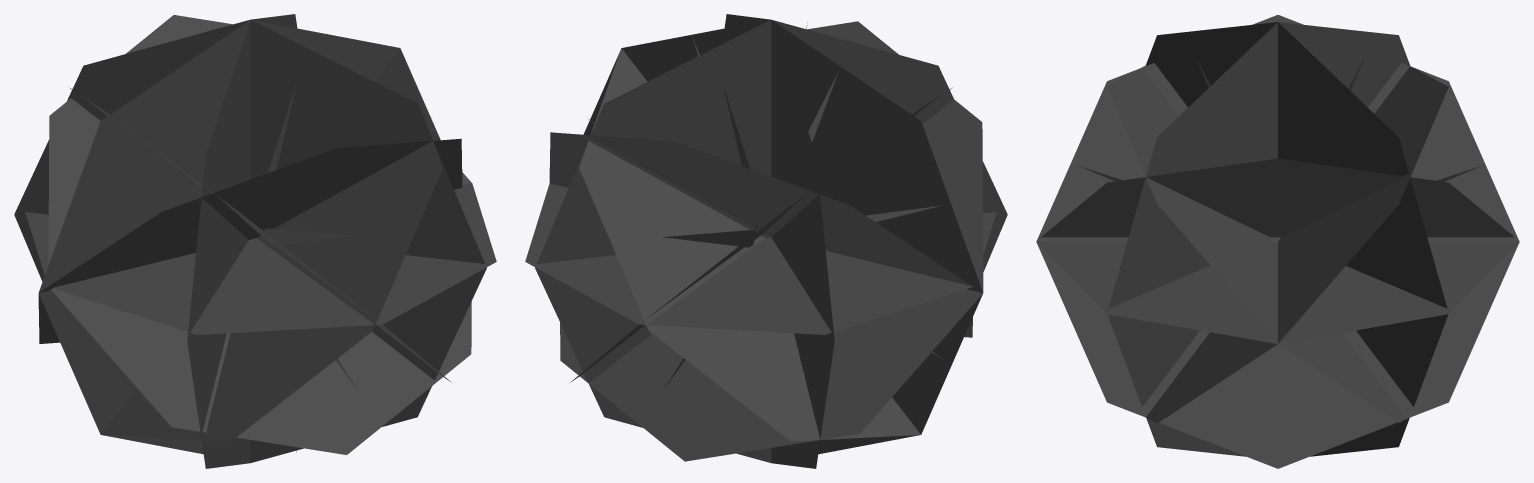
File: jump.glb
3 renders of one model, left to right at view 1: azimuth 30°, elevation 25°; view 2: azimuth 150°, elevation 25°; view 3: azimuth 270°, elevation 25°, orthographic.
Visible parts, largest first — view 1: group_25; view 2: group_25; view 3: group_25.
Part boxes in pixels (x1=…): group_25: x1=14, y1=14, x2=496, y2=468; group_25: x1=525, y1=14, x2=1007, y2=468; group_25: x1=1036, y1=15, x2=1519, y2=468.
Size of the model in its own units: 4414 by 4313 by 4313.
Materials: 1 (1 with a texture image).
